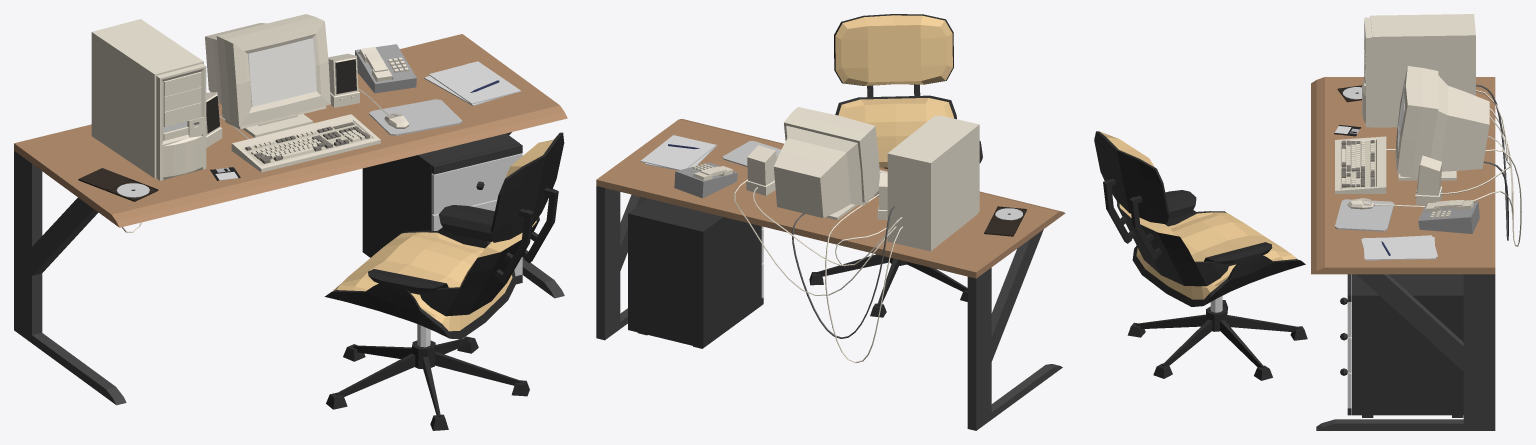
3 renders of one model, left to right at view 1: azimuth 30°, elevation 25°; view 2: azimuth 150°, elevation 25°; view 3: azimuth 270°, elevation 25°, orthographic. The views are drawn at different scales.
Parts seen in each view (by area): view 1: computer_desk, computer_chair, computer_case, monitor, drawers, keyboard, top_paper, mouse_pad, telephone_body, speaker_2, cd_case, speaker_1 (+1 smaller); view 2: computer_desk, drawers, computer_chair, computer_case, monitor, top_paper, speaker_2, telephone_body, cd_case, computer_wire, keyboard_wire, mouse_pad (+2 smaller); view 3: computer_desk, computer_chair, drawers, computer_case, monitor, keyboard, top_paper, mouse_pad, telephone_body, speaker_2, computer_wire, keyboard_wire (+1 smaller).
Boxes of the visible parts, <box> form: computer_desk: <box>14,34,567,405</box>; computer_chair: <box>324,132,564,430</box>; computer_case: <box>91,19,206,180</box>; monitor: <box>205,14,330,137</box>; drawers: <box>362,133,522,284</box>; keyboard: <box>231,114,380,172</box>; top_paper: <box>428,61,521,104</box>; mouse_pad: <box>369,99,462,135</box>; telephone_body: <box>355,44,416,93</box>; speaker_2: <box>328,53,359,107</box>; cd_case: <box>78,168,158,201</box>; speaker_1: <box>206,92,222,147</box>; computer_desk: <box>596,119,1065,430</box>; drawers: <box>628,198,763,348</box>; computer_chair: <box>809,14,982,317</box>; computer_case: <box>887,115,979,251</box>; monitor: <box>774,107,879,220</box>; top_paper: <box>640,135,716,170</box>; speaker_2: <box>746,145,776,195</box>; telephone_body: <box>674,162,737,198</box>; cd_case: <box>984,206,1026,236</box>; computer_wire: <box>792,206,894,338</box>; keyboard_wire: <box>825,194,902,362</box>; mouse_pad: <box>722,141,781,166</box>; computer_desk: <box>1311,77,1495,430</box>; computer_chair: <box>1094,131,1307,380</box>; drawers: <box>1340,274,1463,417</box>; computer_case: <box>1362,14,1475,127</box>; monitor: <box>1395,66,1489,180</box>; keyboard: <box>1335,136,1386,193</box>; top_paper: <box>1363,237,1435,259</box>; mouse_pad: <box>1335,199,1394,231</box>; telephone_body: <box>1418,201,1479,233</box>; speaker_2: <box>1415,155,1442,205</box>; computer_wire: <box>1476,84,1508,240</box>; keyboard_wire: <box>1386,108,1521,246</box>.
Bounding box in the file's own units: 188 × 116 × 178.
Materials: 3 (2 with a texture image).
